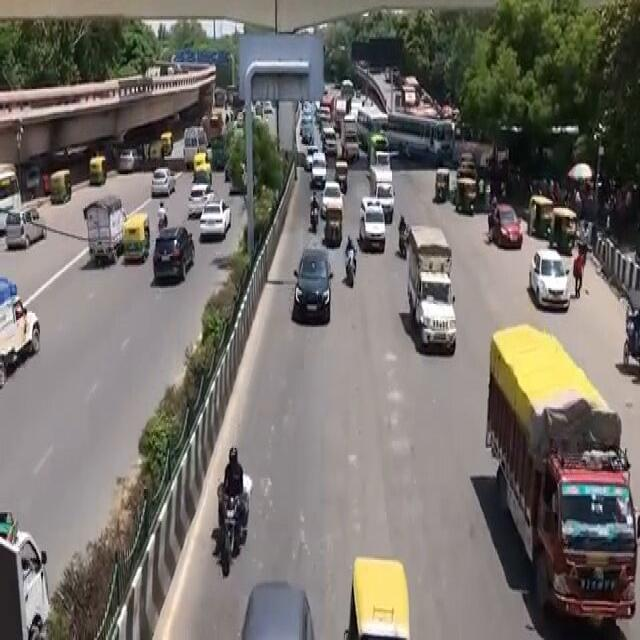three_wheeler: (424, 156, 449, 208)
